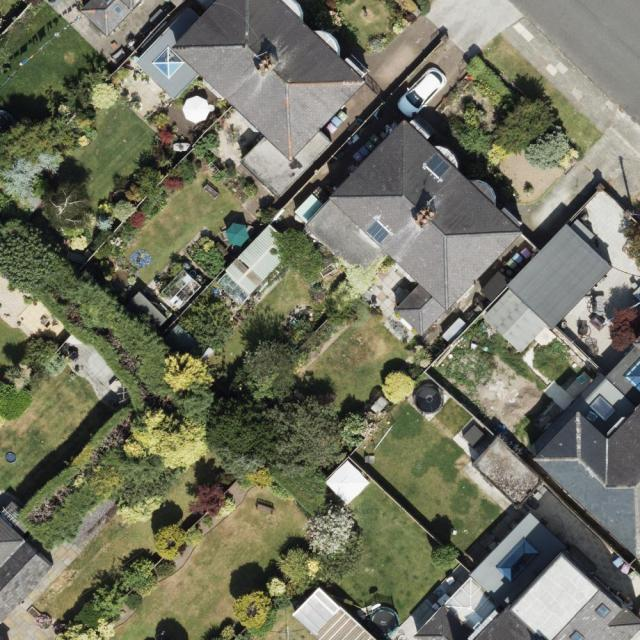roof: (306, 121, 523, 336), (137, 0, 368, 198), (412, 512, 640, 640), (534, 338, 640, 562), (483, 223, 612, 354), (0, 511, 53, 617), (292, 586, 381, 640), (81, 0, 144, 37)
skylight: (497, 538, 541, 584), (150, 45, 186, 80), (588, 393, 619, 425), (624, 360, 640, 393), (596, 602, 611, 620), (568, 628, 586, 639), (113, 5, 123, 14)
solar: (424, 151, 452, 178), (366, 218, 392, 247)
